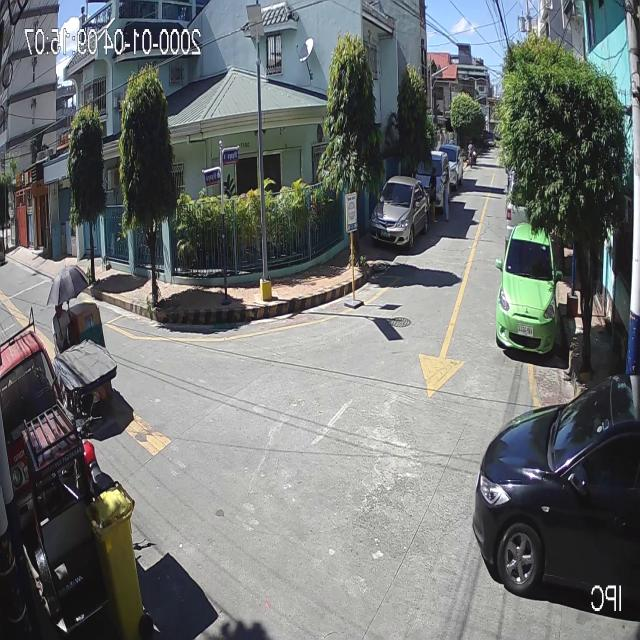standing: (428, 166, 439, 223), (440, 166, 451, 221)
